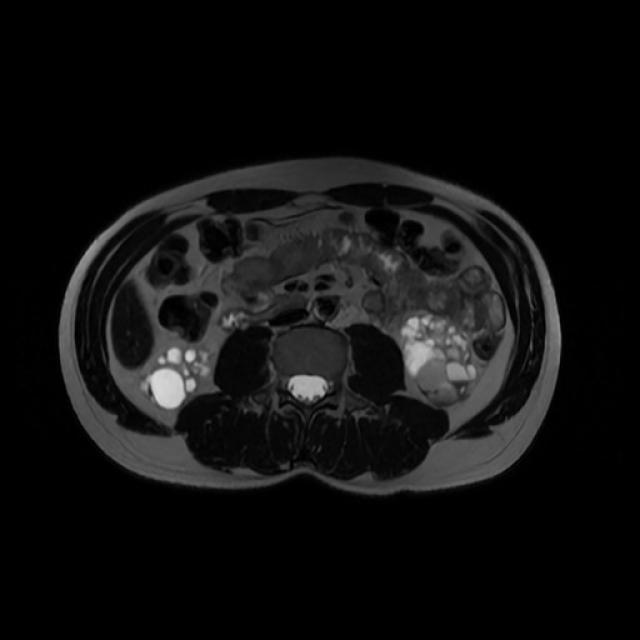sag: (144, 348, 210, 407)
sol: (401, 314, 475, 403)
